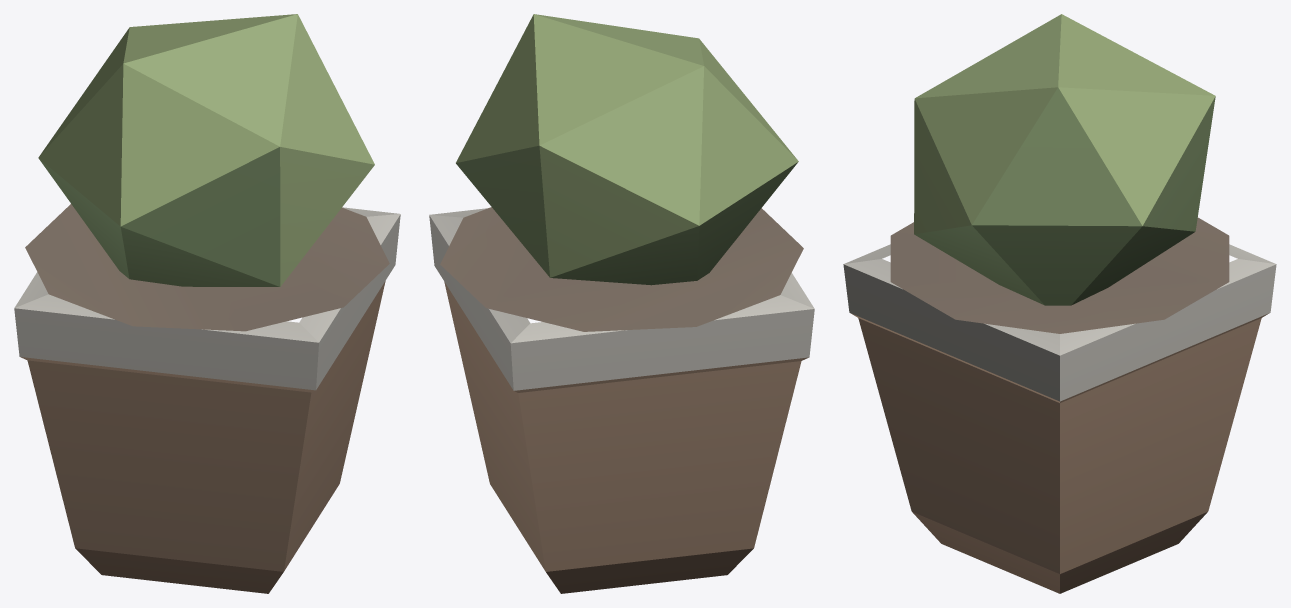
The model's file is basil.lod2.glb.
The picture shows the model from 3 angles, left to right: view 1: azimuth 30°, elevation 25°; view 2: azimuth 150°, elevation 25°; view 3: azimuth 270°, elevation 25°; orthographic projection. The views are drawn at different scales.
Bounding box in the file's own units: 0.73 × 0.9278 × 0.73.
